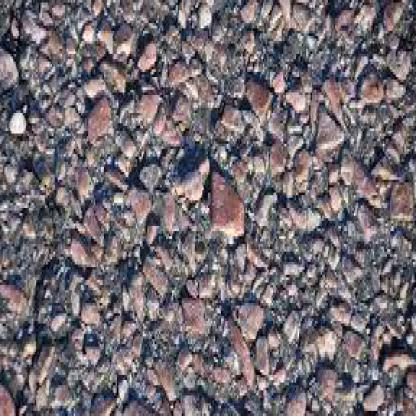Metamorphic_Quartize: (212, 162, 248, 241), (231, 296, 269, 360), (179, 288, 217, 344), (86, 95, 119, 154), (179, 149, 211, 208), (130, 85, 162, 128)
